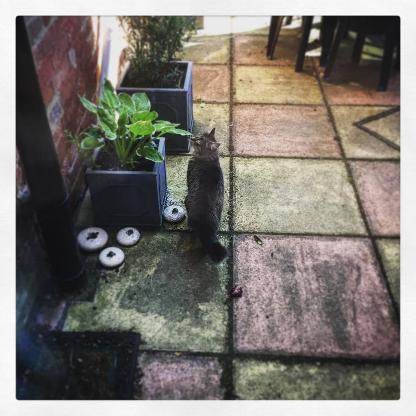Cat: (182, 127, 232, 267)
